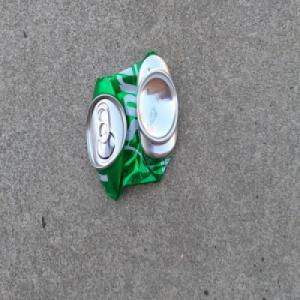SodaCan: (85, 48, 179, 203)
